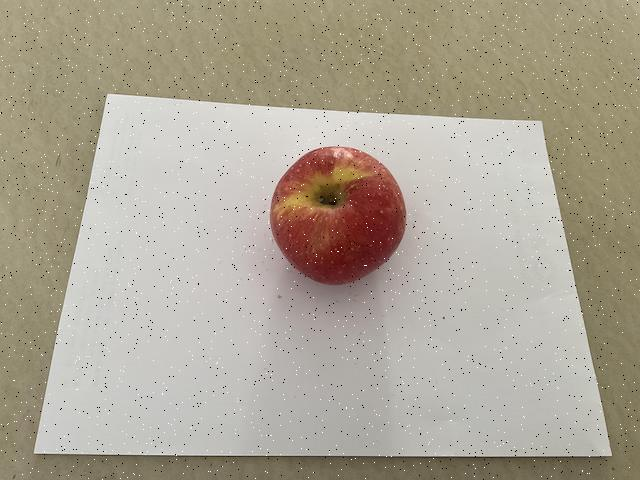apple: (266, 140, 411, 289)
